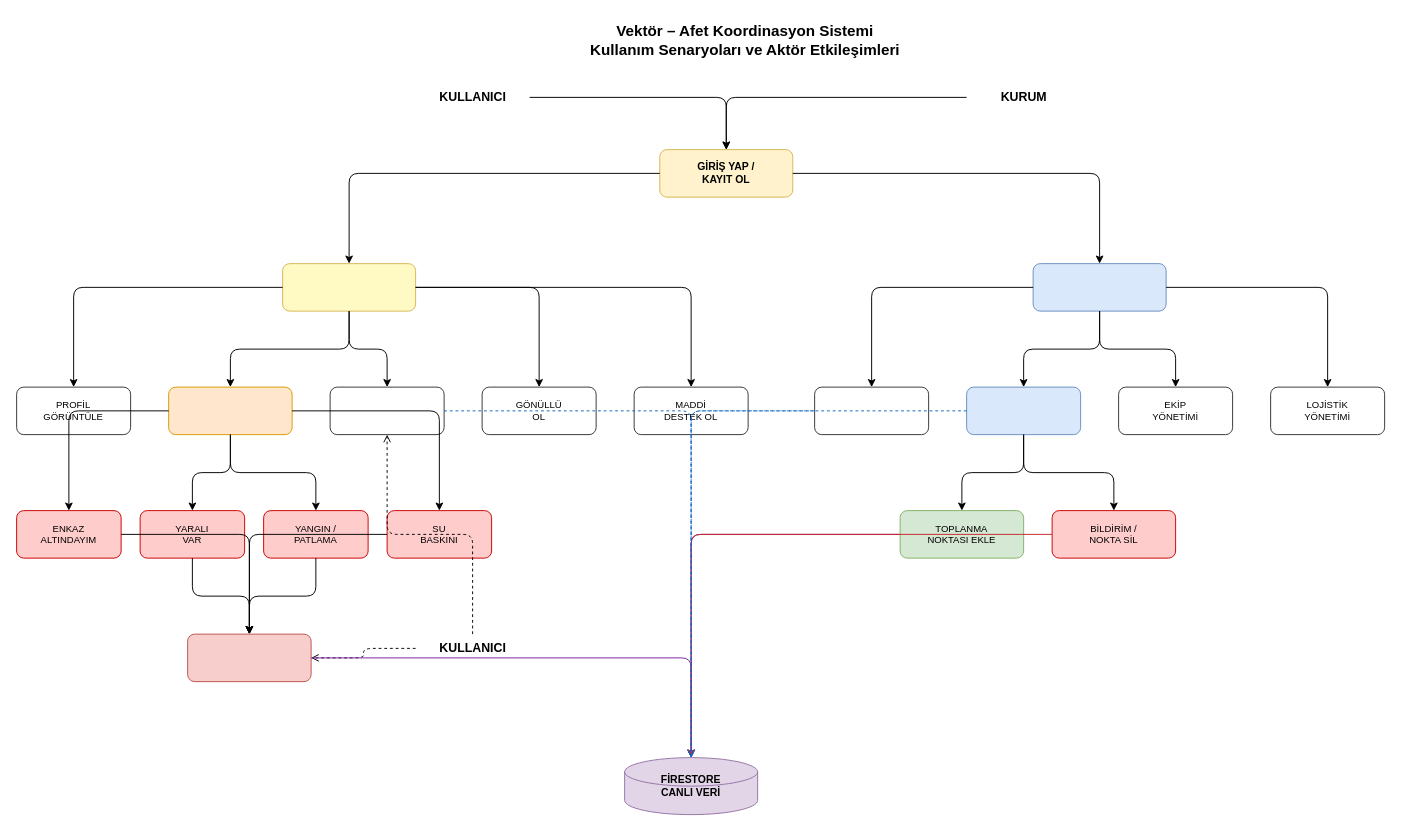
The diagram is 1401 pixels wide and 831 high, and some of its shapes have lost their labels. Each missing label, with the centre of its shape:
"ACİL HARİTA" belongs at (x=386, y=410).
"ACİL YARDIM TALEBİ" belongs at (x=230, y=410).
"AFET HARİTASI" belongs at (x=1023, y=410).
"GELEN TALEPLER" belongs at (x=871, y=410).
"KONUM BİLDİR" belongs at (x=249, y=657).
"KULLANICI ANA SAYFASI" belongs at (x=349, y=287).
"KURUM PANELİ" belongs at (x=1099, y=287).
